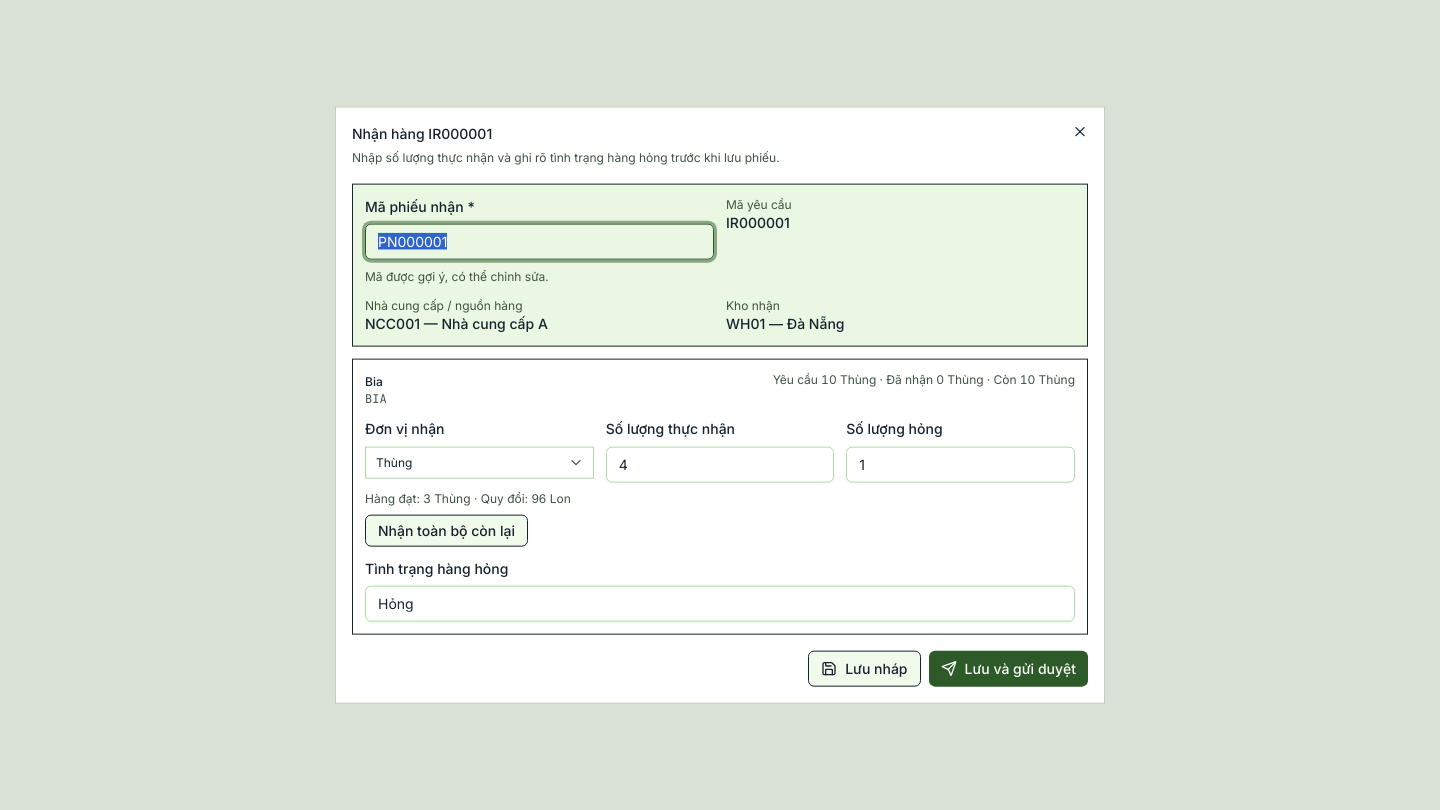
Test: ReceiveGoodsDialog operational context › fills all remaining in packaging and avoids reinterpreting quantities when changing unit
Click the button "Nhận toàn bộ còn lại".
click(446, 530)  # box [365,514,528,546]
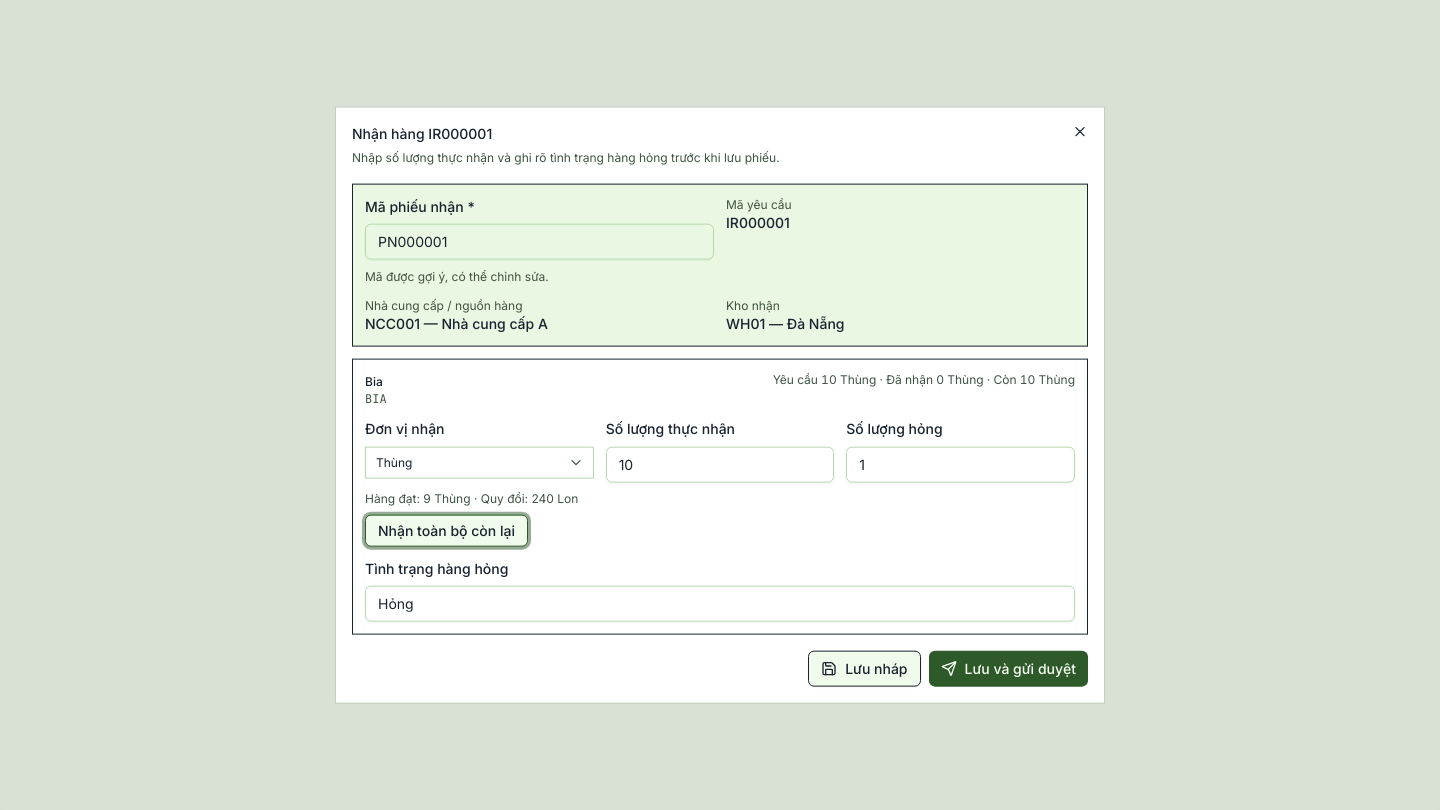
Now the number field labelled "Số lượng thực nhận" holds "10", box [606,446,834,482]
Select "Lon" in the dropdown labelled "Đơn vị nhận" at (479, 462), box [365,446,594,478]
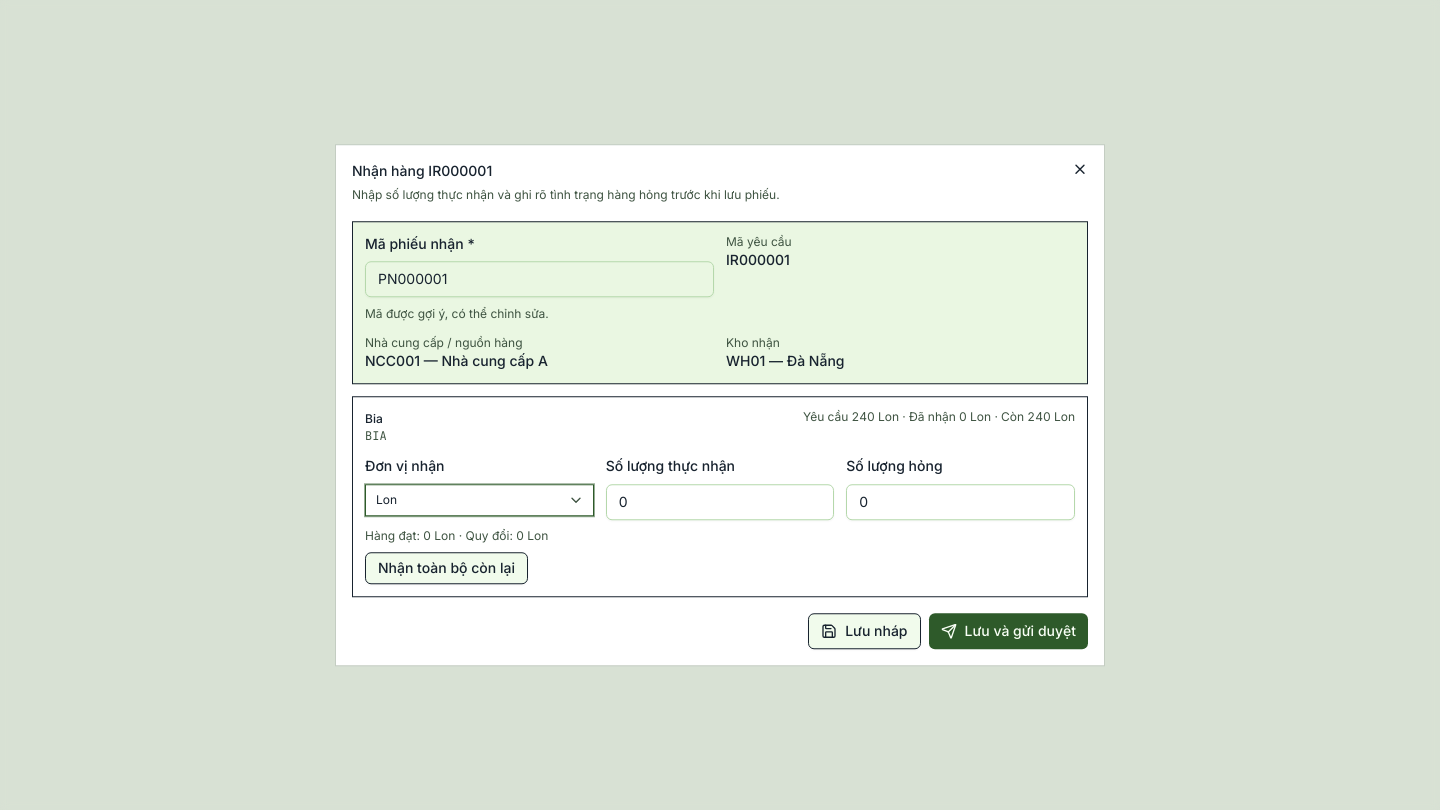
Now the number field labelled "Số lượng thực nhận" holds "0", box [606,484,834,520]
Now the number field labelled "Số lượng hỏng" holds "0", box [846,484,1075,520]
Click the button "Nhận toàn bộ còn lại".
click(446, 568)  # box [365,552,528,584]
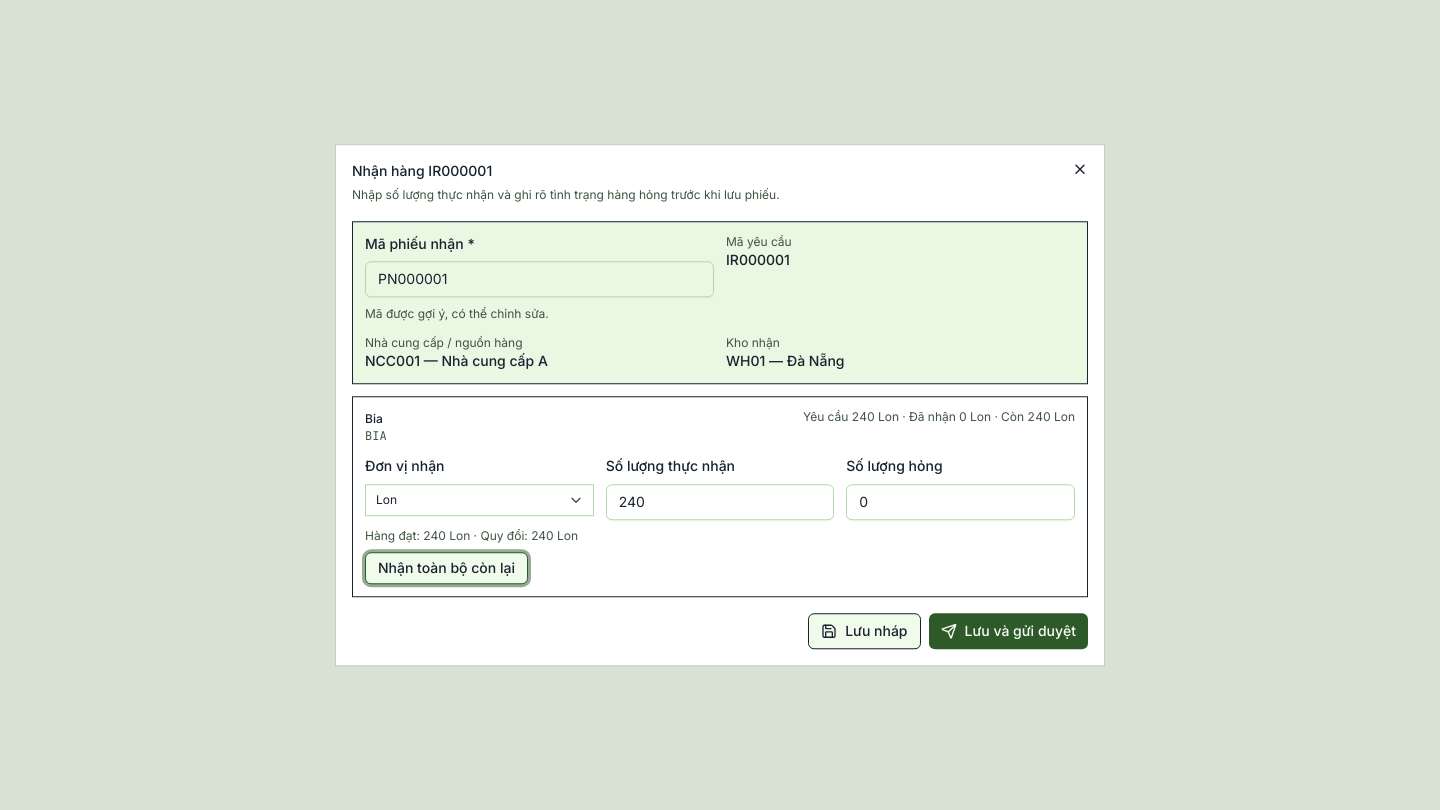
Now the number field labelled "Số lượng thực nhận" holds "240", box [606,484,834,520]
